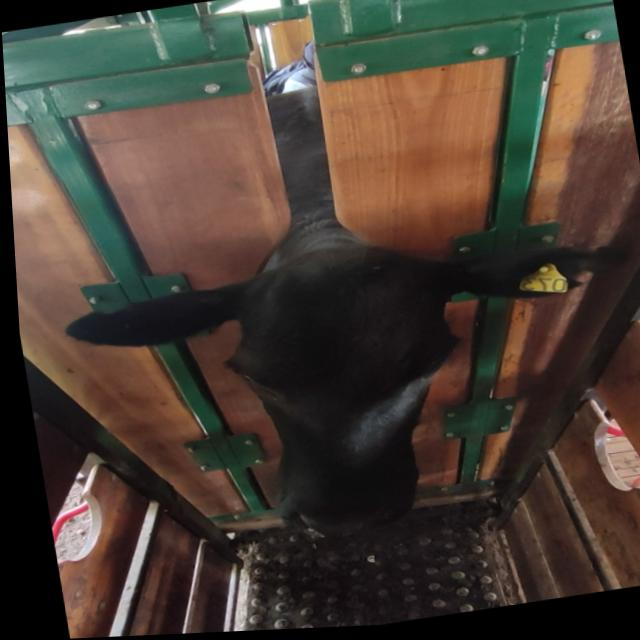cowFace: (207, 234, 481, 555)
